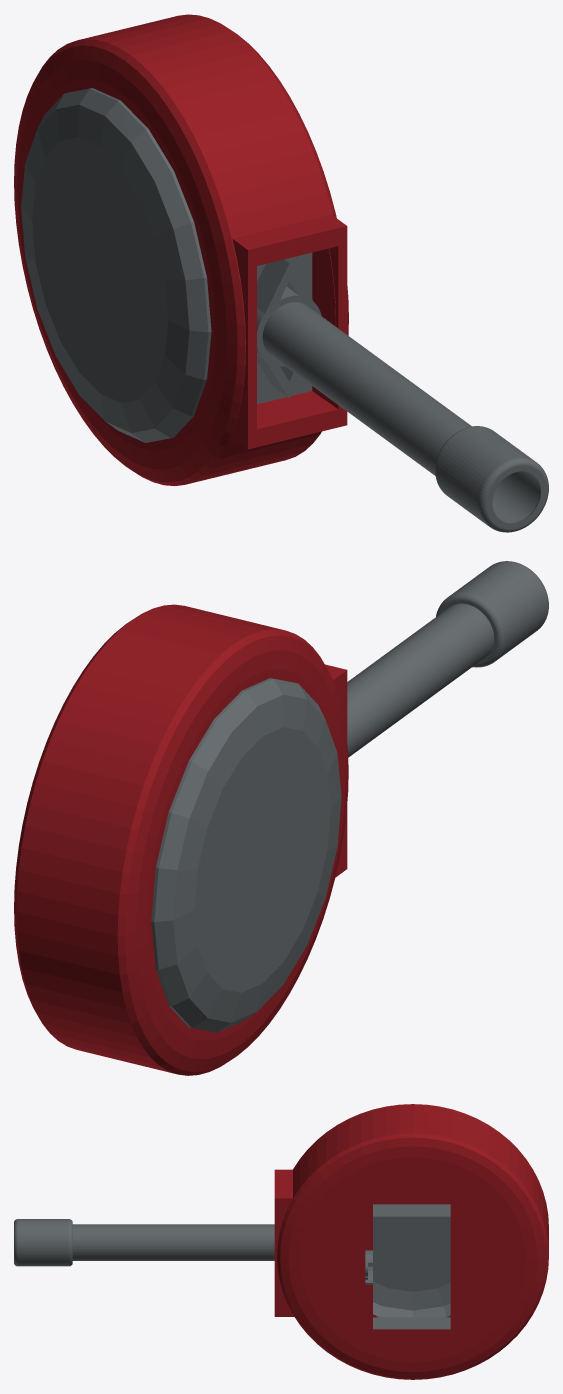
The model's file is robotArm.FBX.
3 views of the same model, one above another, from view 1: azimuth 30°, elevation 25°; view 2: azimuth 150°, elevation 25°; view 3: azimuth 270°, elevation 25° (orthographic). The views are drawn at different scales.
Visible parts, largest first — view 1: Object001; view 2: Object001; view 3: Object001.
Part boxes in pixels (bbox=[...]): Object001: bbox=[14, 14, 548, 532]; Object001: bbox=[14, 561, 548, 1075]; Object001: bbox=[14, 1104, 548, 1379].
Bounding box in the file's own units: 14.08 × 30.29 × 59.6.
